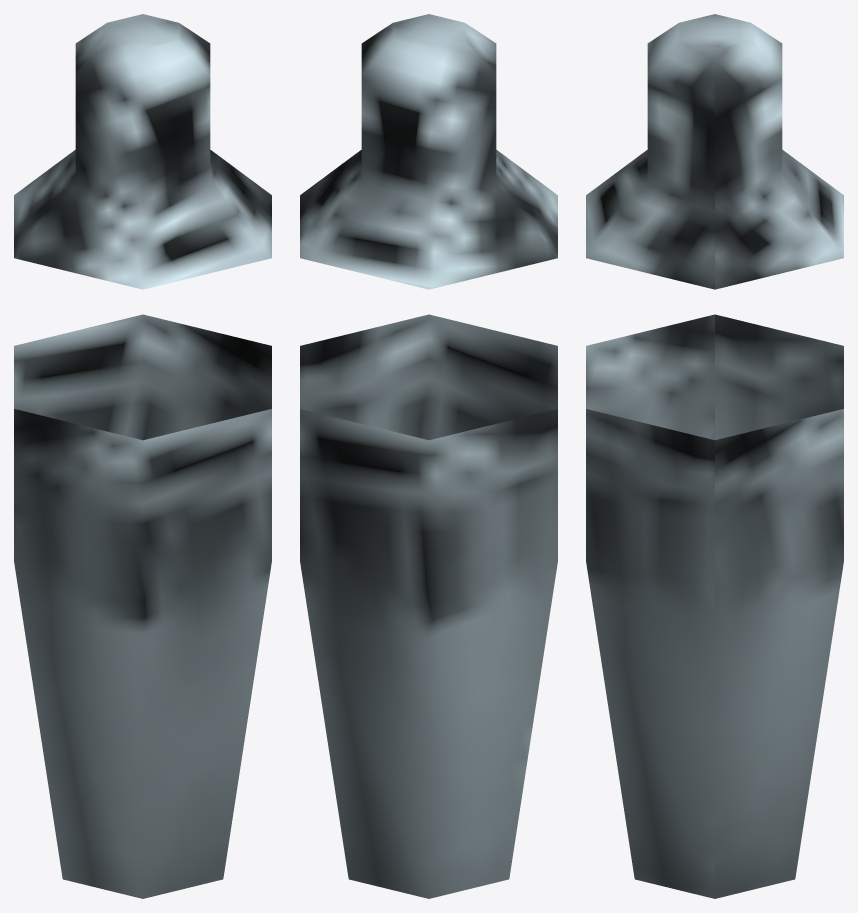
The model's file is Shaker_Open.fbx.
3 renders of one model, left to right at view 1: azimuth 30°, elevation 25°; view 2: azimuth 150°, elevation 25°; view 3: azimuth 270°, elevation 25°, orthographic.
Parts seen in each view (by area): view 1: Glasses.017, Glasses.001; view 2: Glasses.017, Glasses.001; view 3: Glasses.017, Glasses.001.
Part boxes in pixels (bbox=[...]): Glasses.017: bbox=[14, 314, 271, 898]; Glasses.001: bbox=[14, 14, 271, 289]; Glasses.017: bbox=[300, 314, 557, 898]; Glasses.001: bbox=[300, 14, 557, 289]; Glasses.017: bbox=[586, 314, 843, 898]; Glasses.001: bbox=[586, 14, 843, 289].
Bounding box in the file's own units: 10.72 × 32.88 × 9.28.
